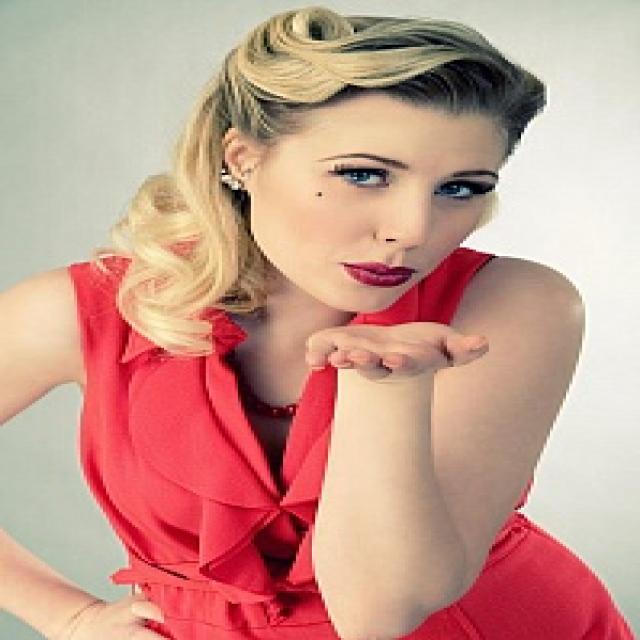Eyes: (312, 157, 500, 206)
